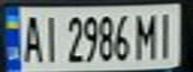2: (63, 11, 84, 63)
6: (112, 11, 133, 62)
8: (97, 11, 118, 62)
9: (81, 11, 100, 63)
A: (18, 10, 45, 63)
I: (154, 8, 181, 60), (39, 10, 60, 64)
M: (133, 9, 160, 61)
